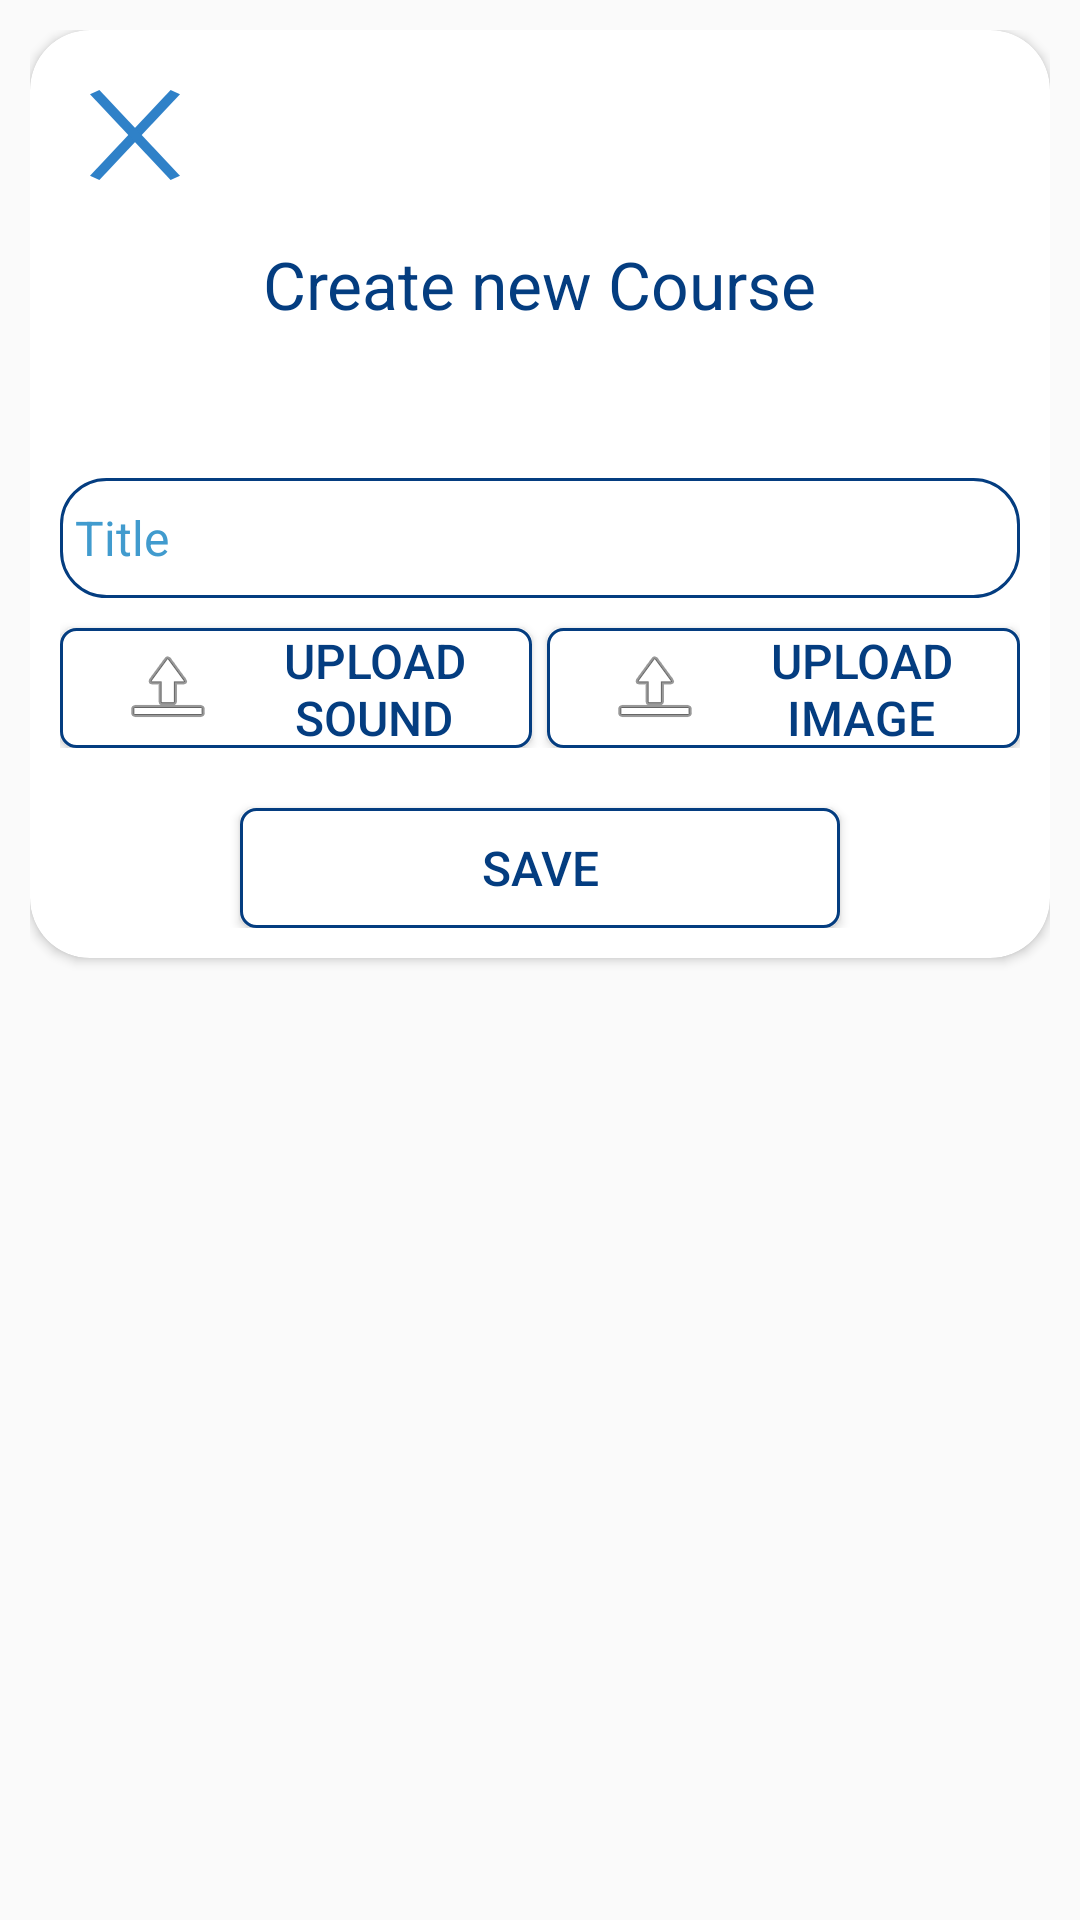

Named icons in this screenshot (1080 × 1920) and their bounding boxes, (x1, y1, x2, y2):
close: (90, 90, 180, 180)
